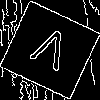V: (25, 25, 73, 81)
